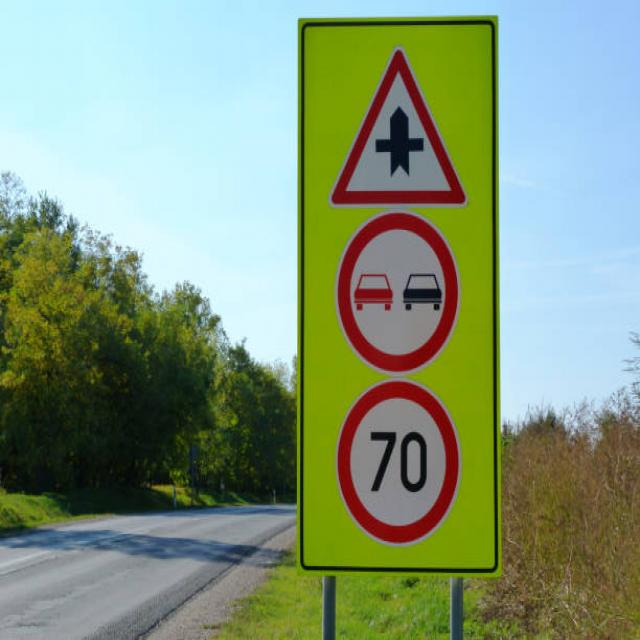no_passing: (336, 212, 461, 378)
